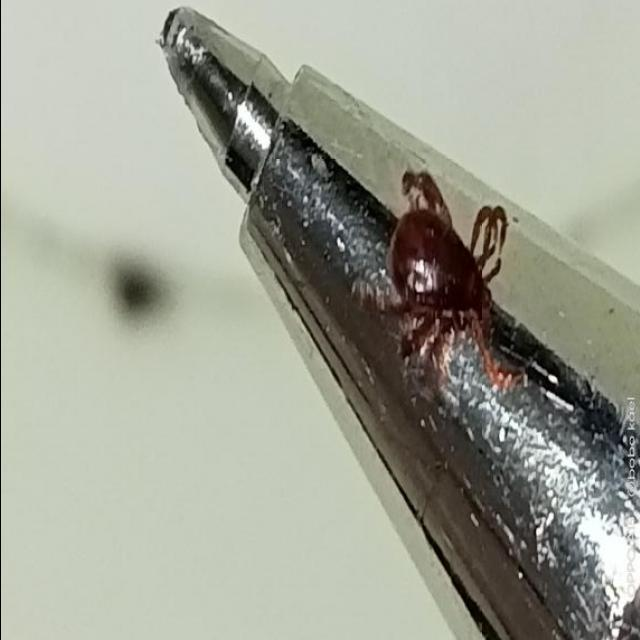Rhipicephalus Sanguineus-M: (381, 169, 531, 389)
